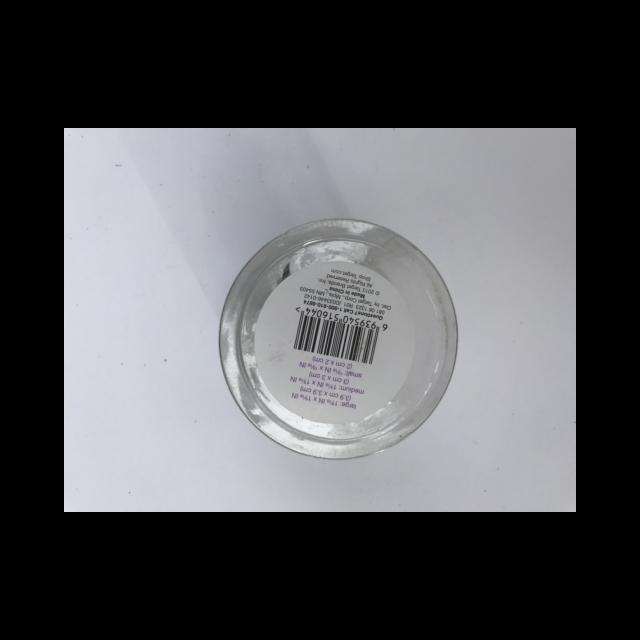plastic: (217, 218, 458, 460)
